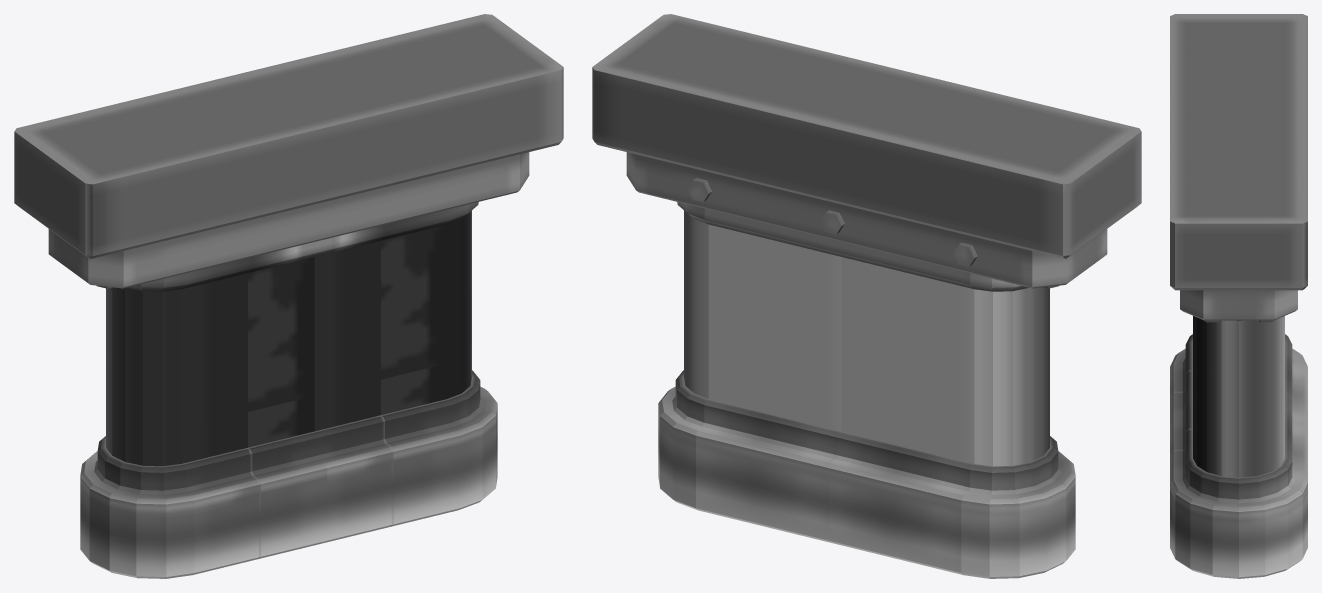
The model's file is crusher_4wide_1.fbx.
The picture shows the model from 3 angles, left to right: view 1: azimuth 30°, elevation 25°; view 2: azimuth 150°, elevation 25°; view 3: azimuth 270°, elevation 25°; orthographic projection. The views are drawn at different scales.
Parts seen in each view (by area): view 1: top4, bottom4, middle4; view 2: top4, bottom4, middle4; view 3: top4, bottom4, middle4.
Part boxes in pixels (x1=…): top4: x1=14, y1=14, x2=563, y2=291; bottom4: x1=80, y1=343, x2=497, y2=578; middle4: x1=106, y1=210, x2=471, y2=430; top4: x1=592, y1=14, x2=1141, y2=291; bottom4: x1=658, y1=343, x2=1075, y2=578; middle4: x1=684, y1=210, x2=1049, y2=430; top4: x1=1170, y1=14, x2=1307, y2=322; bottom4: x1=1170, y1=334, x2=1307, y2=578; middle4: x1=1193, y1=316, x2=1284, y2=445.
Bounding box in the file's own units: 3.6 × 3 × 1.
